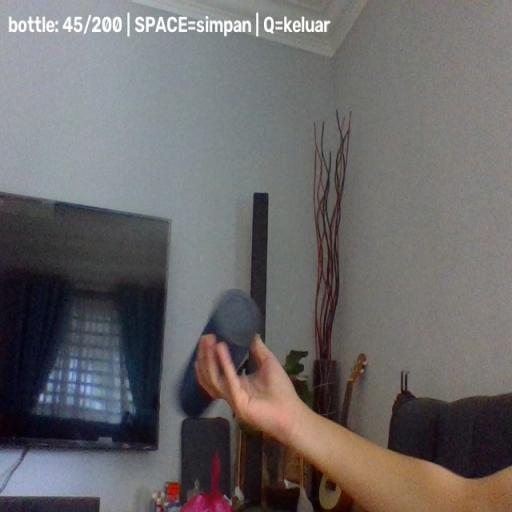Bottle: (178, 289, 262, 419)
